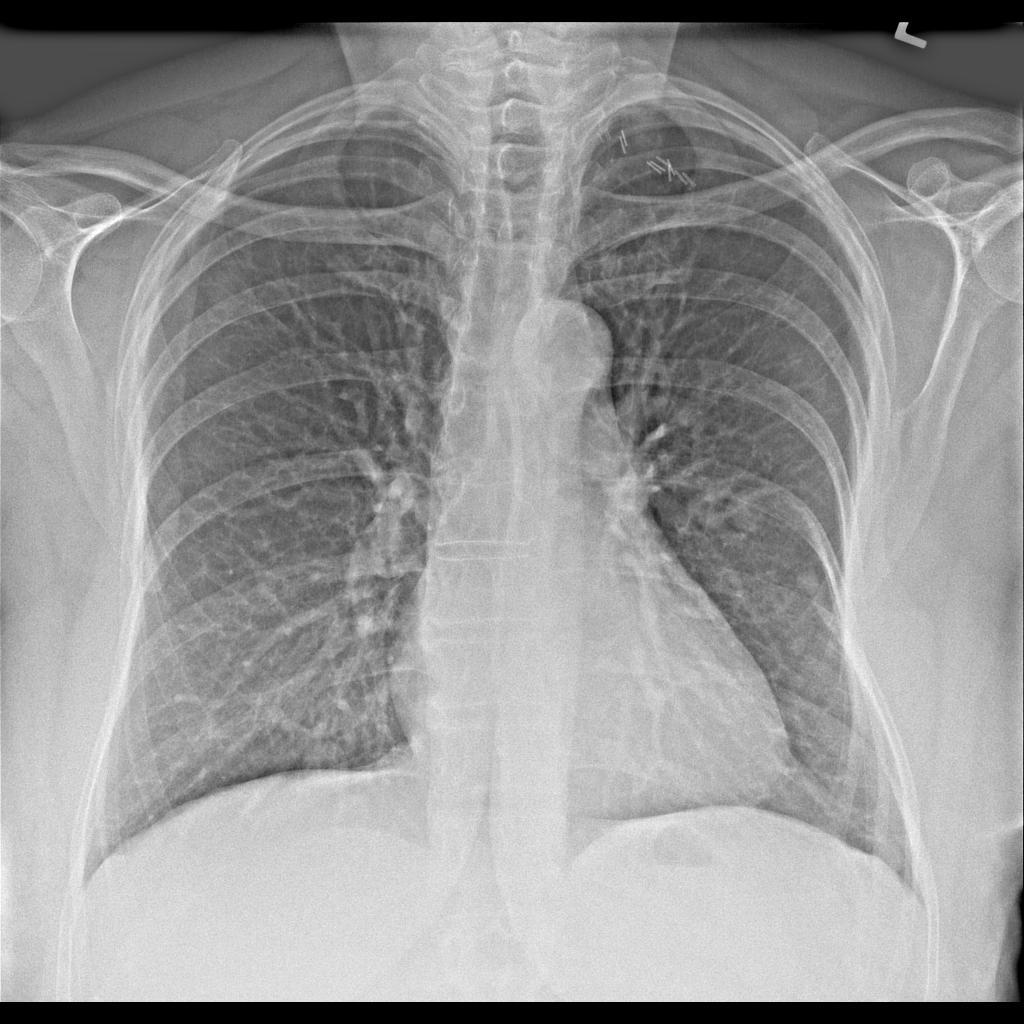Nodule: (722, 479, 774, 544)
